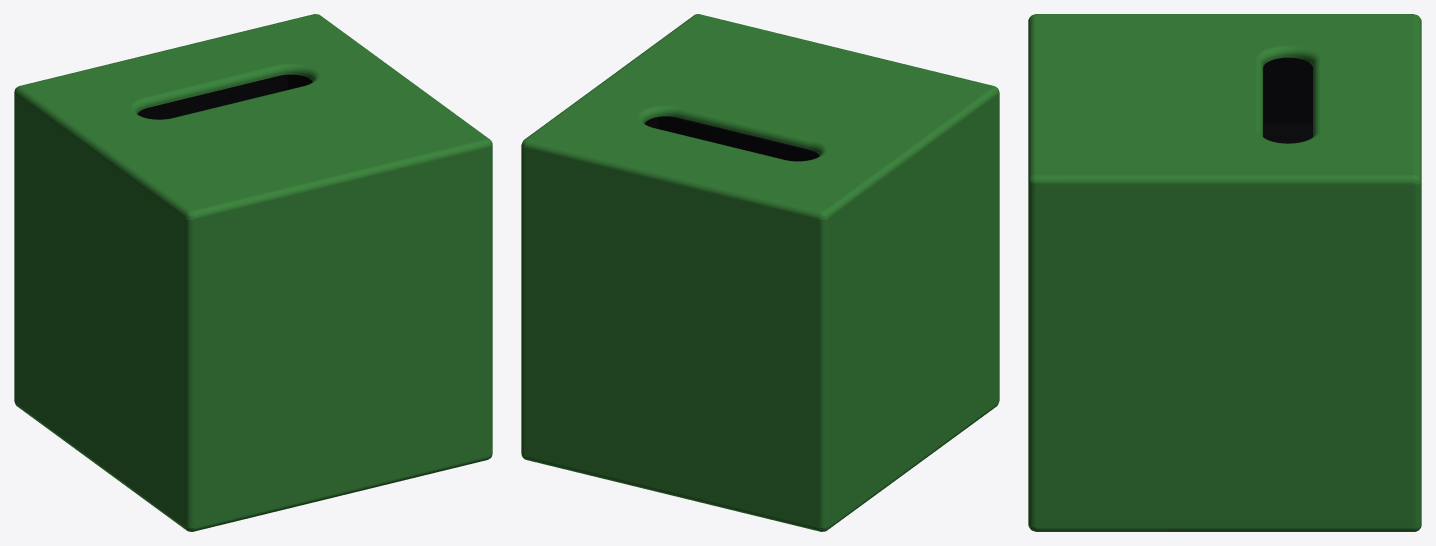
3 renders of one model, left to right at view 1: azimuth 30°, elevation 25°; view 2: azimuth 150°, elevation 25°; view 3: azimuth 270°, elevation 25°, orthographic. The views are drawn at different scales.
Parts seen in each view (by area): view 1: Top, Bottom, Level1; view 2: Top, Bottom, Level1; view 3: Top, Level1, Bottom.
Boxes of the visible parts, x1,y1,x2,y2 form: Top: [14, 14, 492, 525]; Bottom: [14, 399, 492, 531]; Level1: [137, 74, 312, 119]; Top: [521, 14, 999, 525]; Bottom: [521, 399, 999, 531]; Level1: [644, 116, 819, 161]; Top: [1028, 14, 1421, 524]; Level1: [1263, 57, 1312, 143]; Bottom: [1028, 523, 1421, 531].
Bounding box in the file's own units: 53 × 53 × 53.01.
